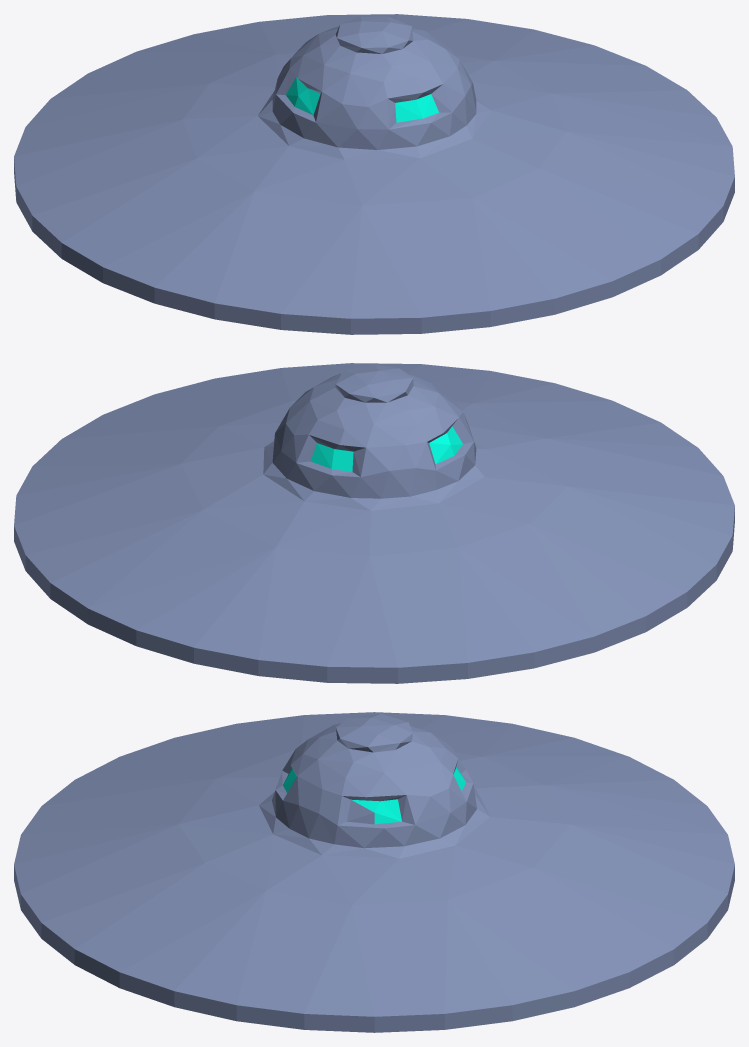
The model's file is Ufo.fbx.
3 views of the same model, one above another, from view 1: azimuth 30°, elevation 25°; view 2: azimuth 150°, elevation 25°; view 3: azimuth 270°, elevation 25° (orthographic).
Visible parts, largest first — view 1: 球; view 2: 球; view 3: 球.
Boxes of the visible parts, x1,y1,x2,y2 form: 球: [14, 14, 734, 334]; 球: [14, 363, 734, 683]; 球: [14, 712, 734, 1032].
Bounding box in the file's own units: 7.15 × 2.5 × 7.15.
